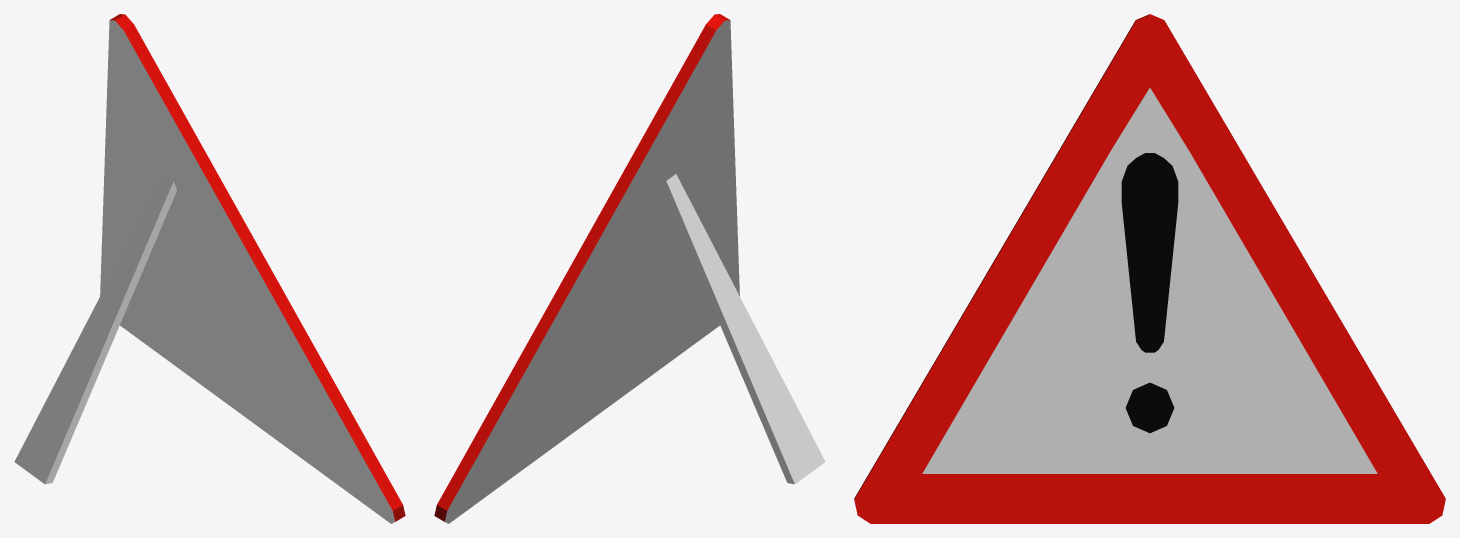
File: roadSign.fbx
The picture shows the model from 3 angles, left to right: view 1: azimuth 30°, elevation 25°; view 2: azimuth 150°, elevation 25°; view 3: azimuth 270°, elevation 25°; orthographic projection.
Visible parts, largest first — view 1: Cube; view 2: Cube; view 3: Cube.
Part boxes in pixels (<box>): Cube: <box>14,14,405,523</box>; Cube: <box>434,14,825,523</box>; Cube: <box>854,14,1445,523</box>.
Bounding box in the file's own units: 117 × 211 × 255.
